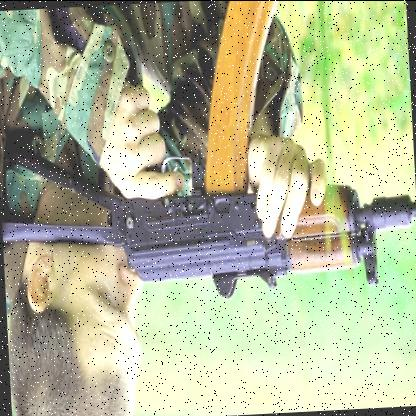rifle: (0, 46, 416, 321)
